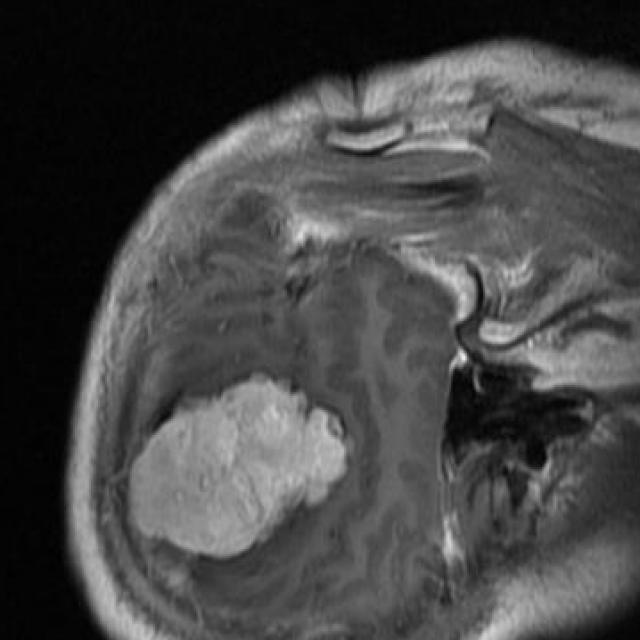meningioma: (128, 374, 348, 560)
